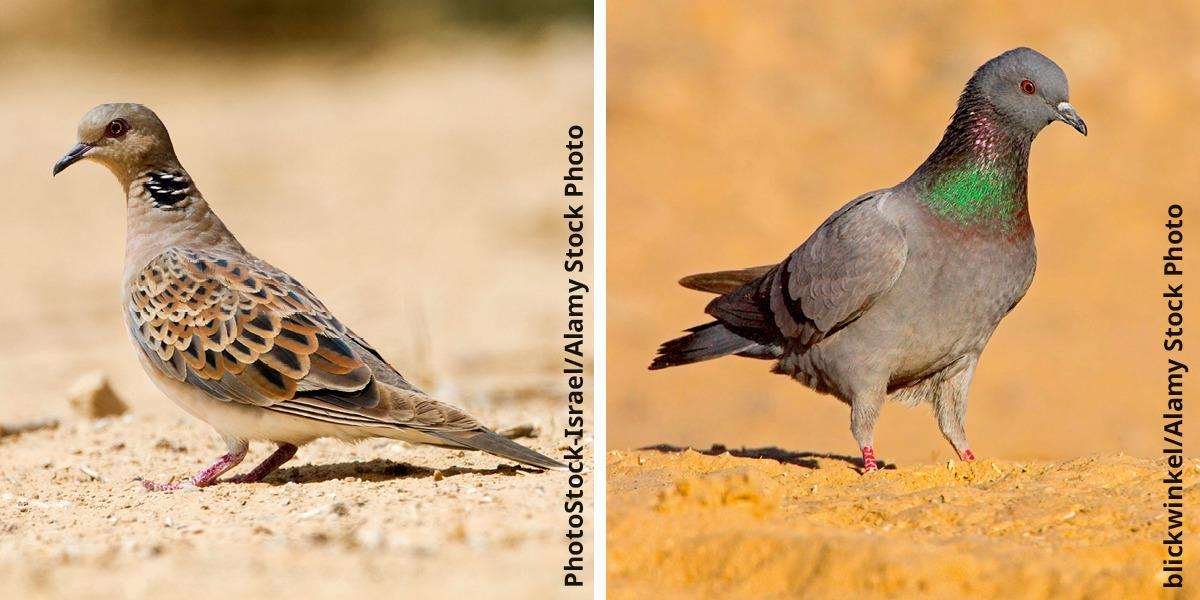Flying Rat: (669, 25, 1105, 486)
